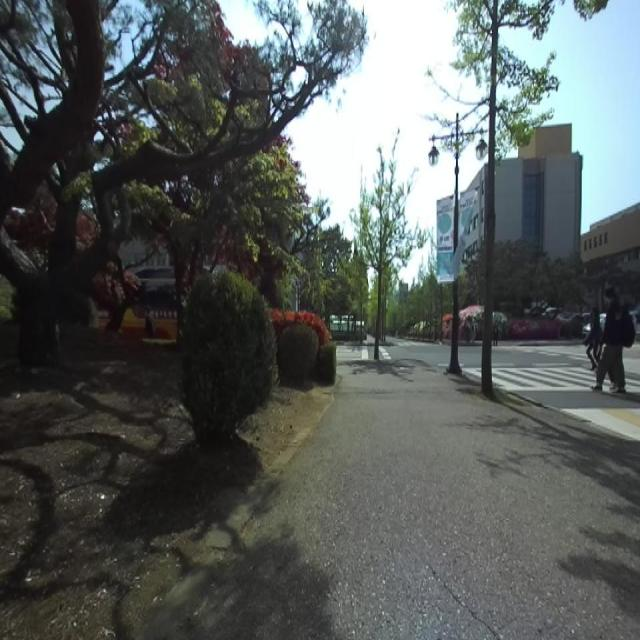sidewalk: (177, 356, 640, 639)
